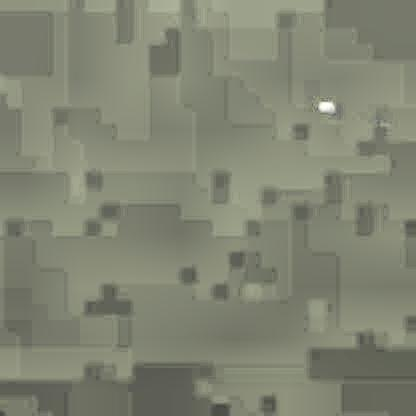golfball: (314, 98, 331, 112)
